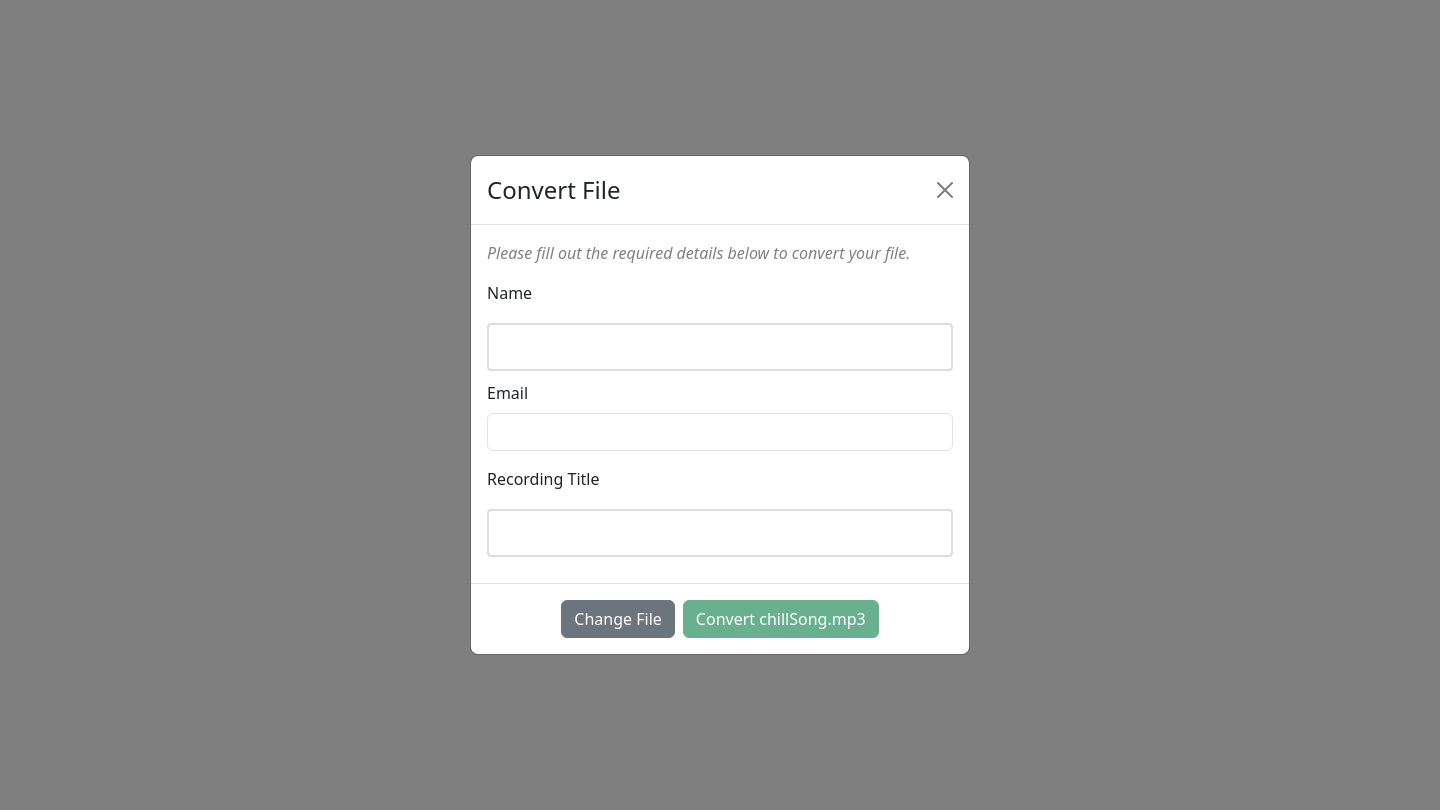
Test: ConvertFileModal › test upload another file
Note: Fill out the form
In the field with test id "name-input": {"x": 720, "y": 347} [487,323,953,371], type "John Doe"
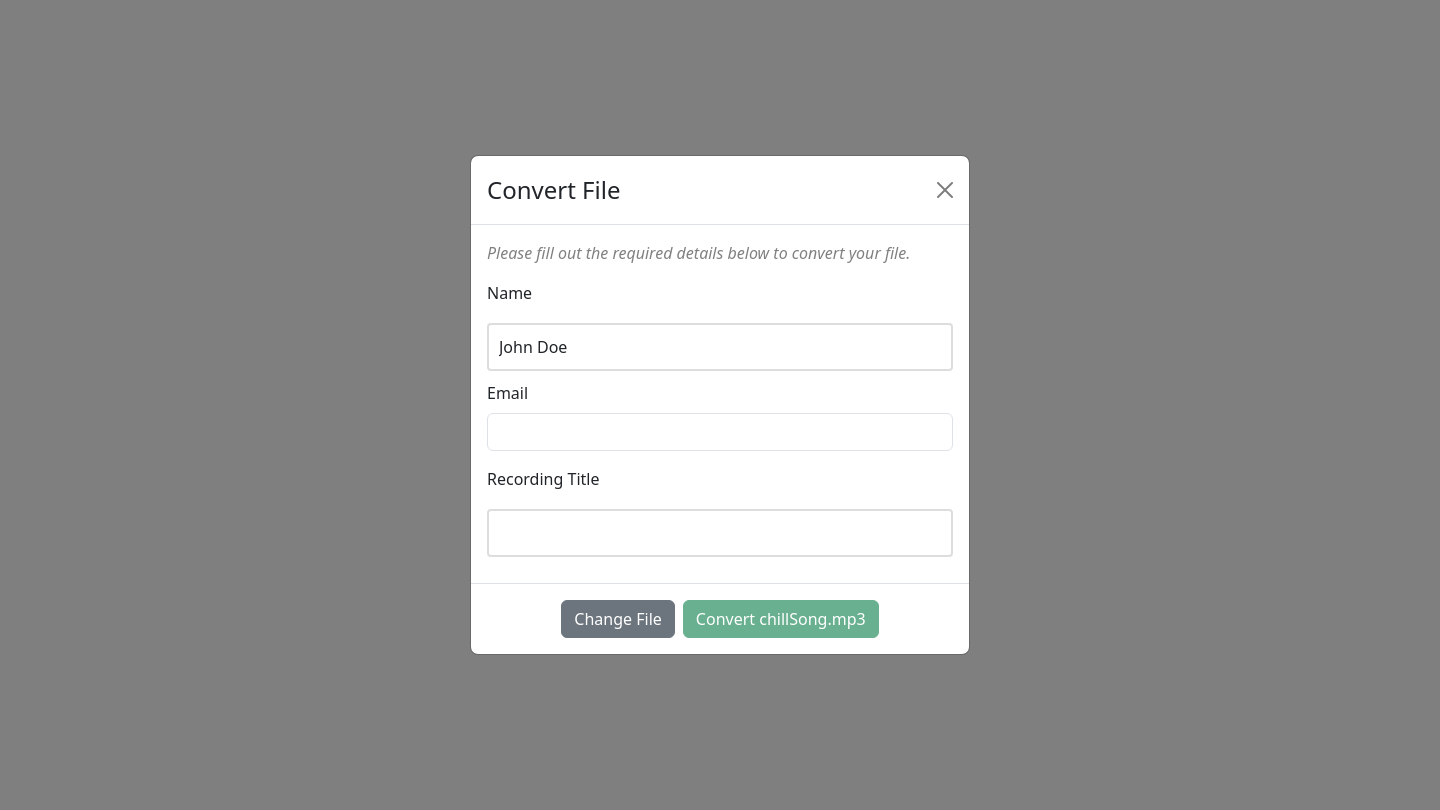
In the field with test id "email-input": {"x": 720, "y": 432} [487,413,953,451], type "john@email.com"
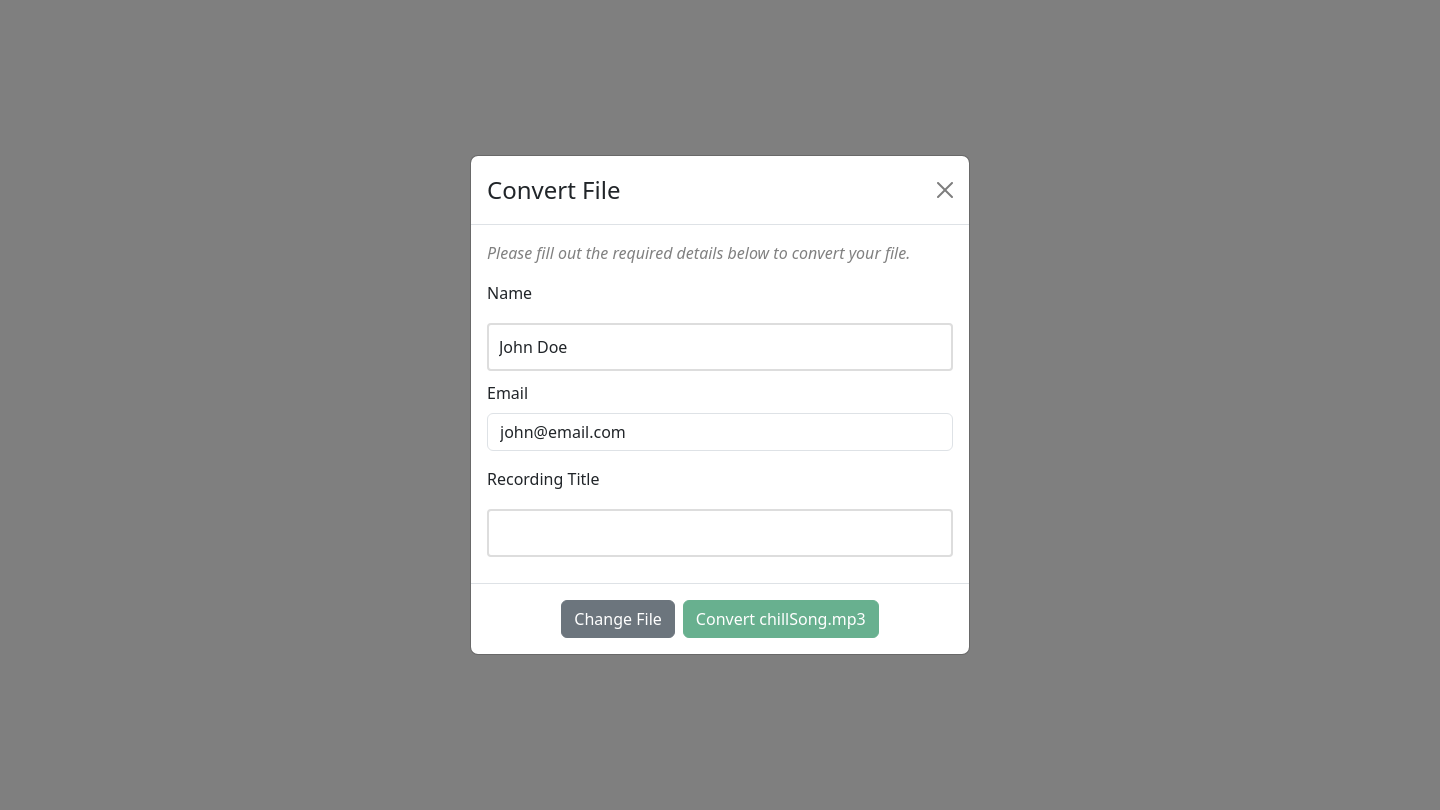
In the field with test id "recording-title-input": {"x": 720, "y": 533} [487,509,953,557], type "recording title"
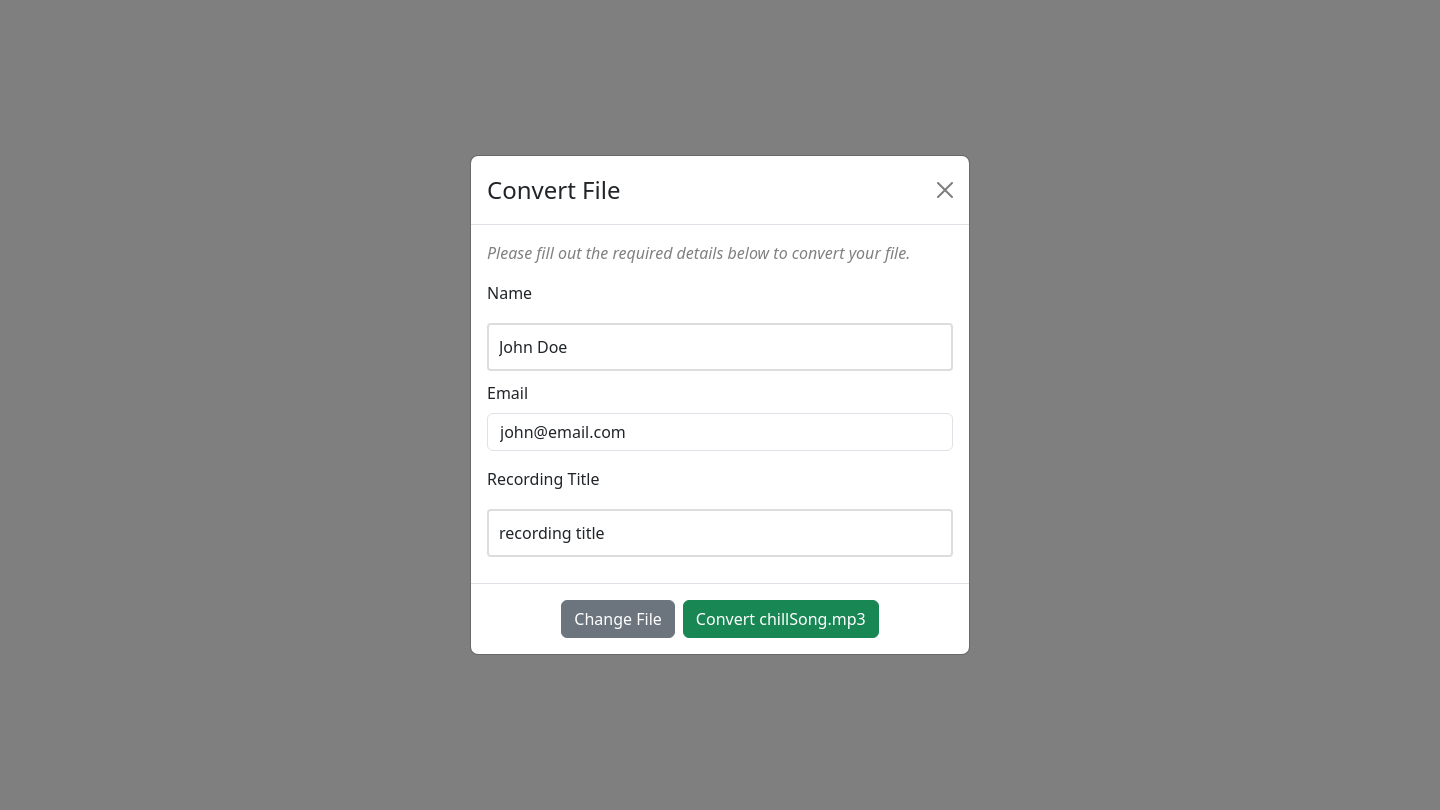
Note: Click the convert button
Click the button with test id "convert-file-button": {"x": 781, "y": 619} [683,600,879,638]
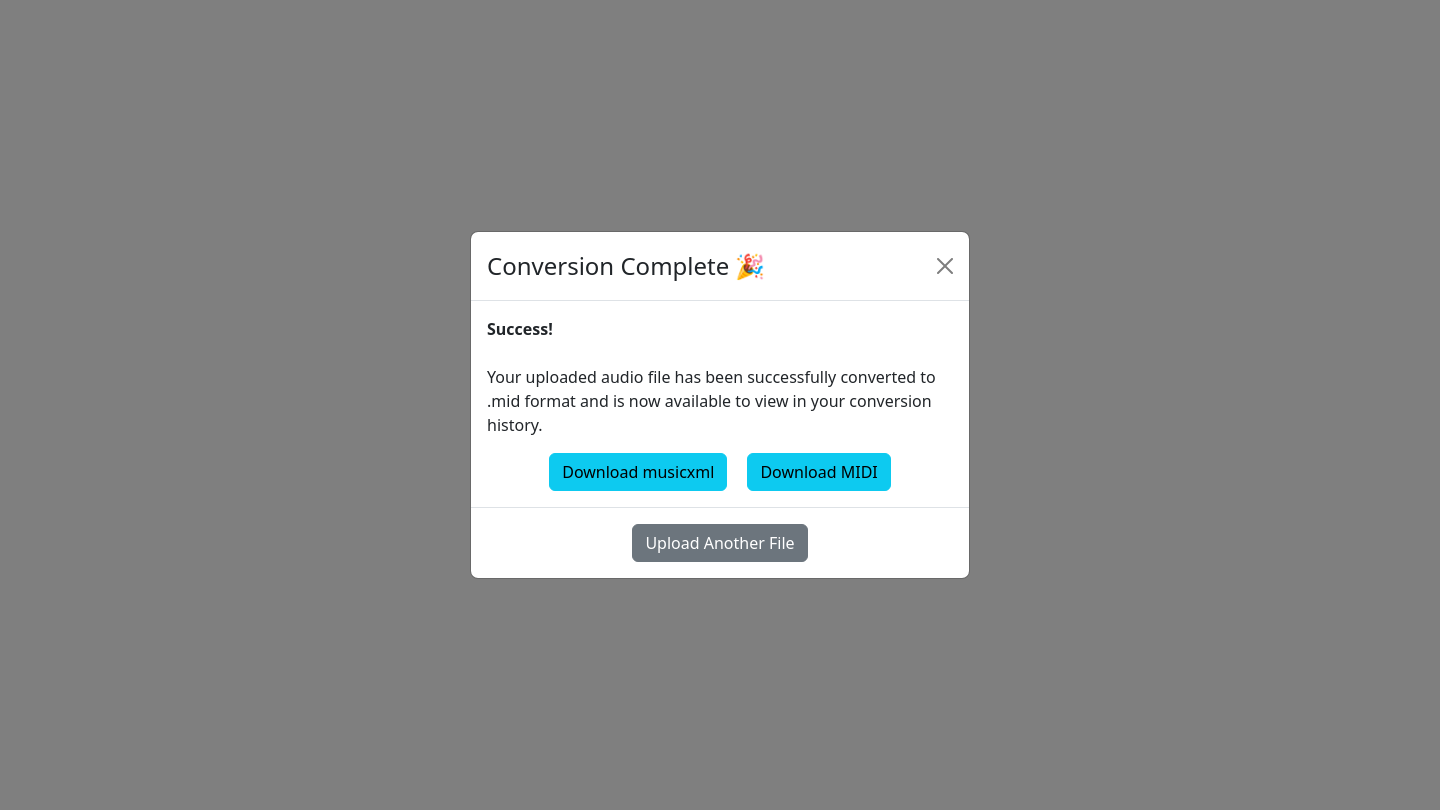
Check: the text "Conversion Complete 🎉" is shown, box [487,248,766,284]
Note: Click the upload another file button
Click the button "Upload Another File": {"x": 720, "y": 543} [632,524,808,562]
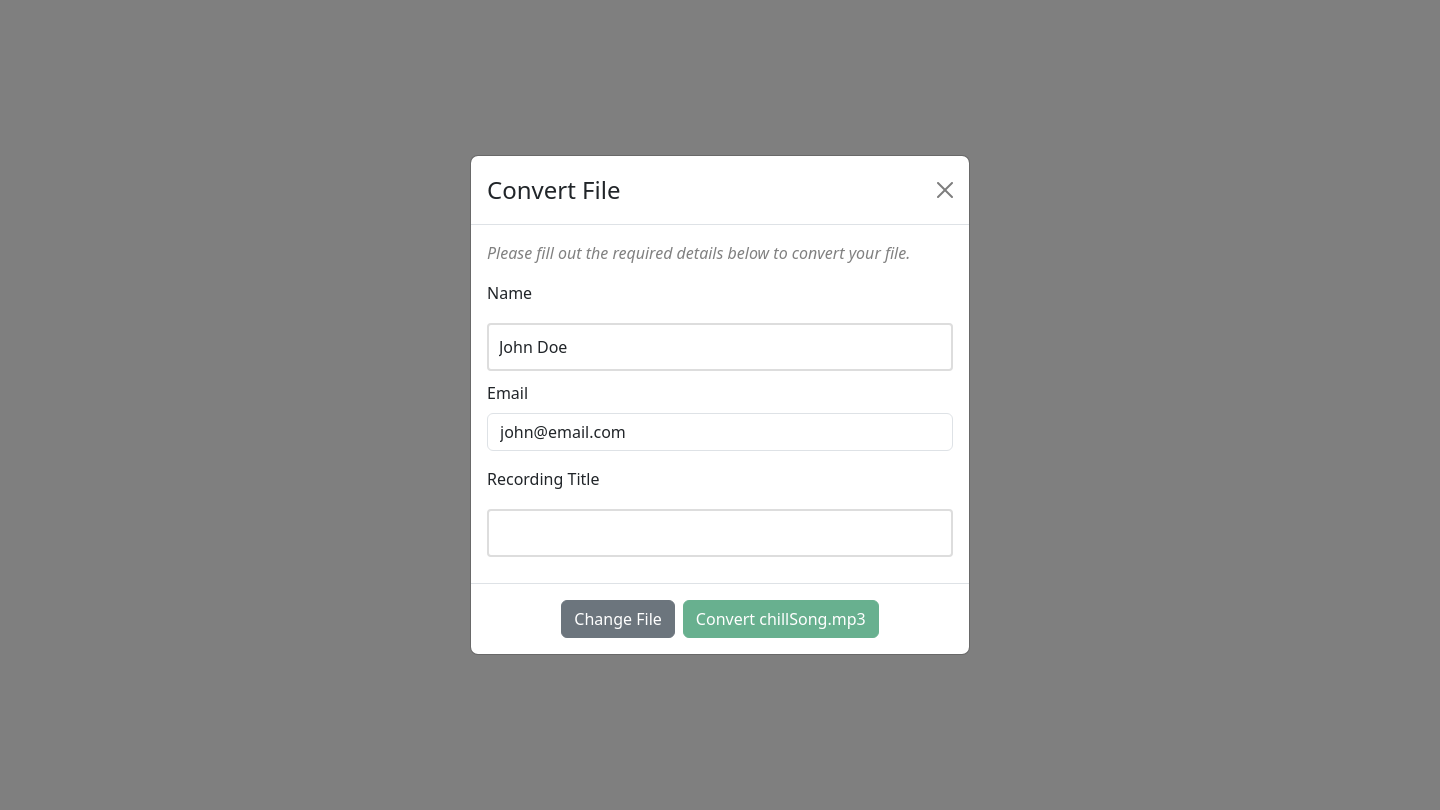
Check: the field with test id "name-input" holds "John Doe", box [487,323,953,371]
Check: the field with test id "email-input" holds "john@email.com", box [487,413,953,451]
Check: the field with test id "recording-title-input" is empty, box [487,509,953,557]
